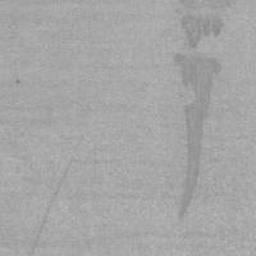Inclusion: (173, 0, 232, 220), (26, 155, 74, 256)
